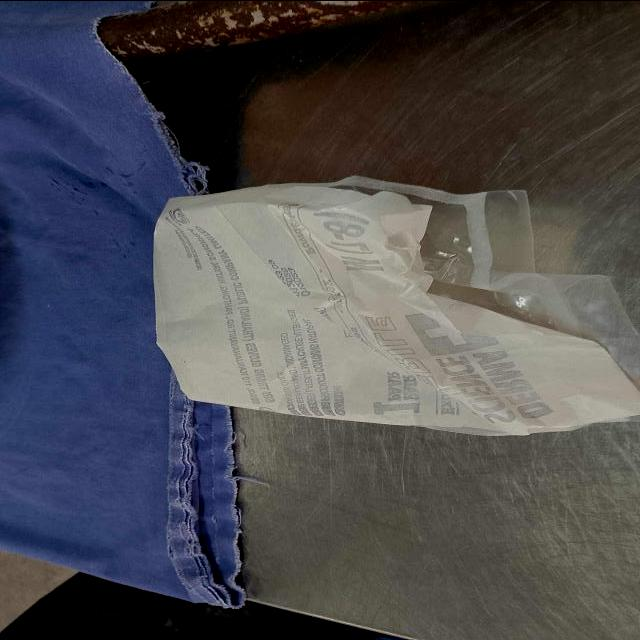Infectious: (151, 177, 638, 437)
Sharps: (95, 0, 412, 63)
